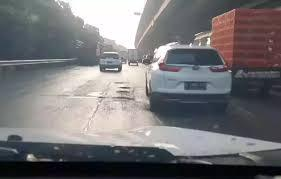Pothole: (112, 93, 137, 105), (86, 90, 107, 104), (110, 77, 130, 84), (117, 85, 133, 93)
